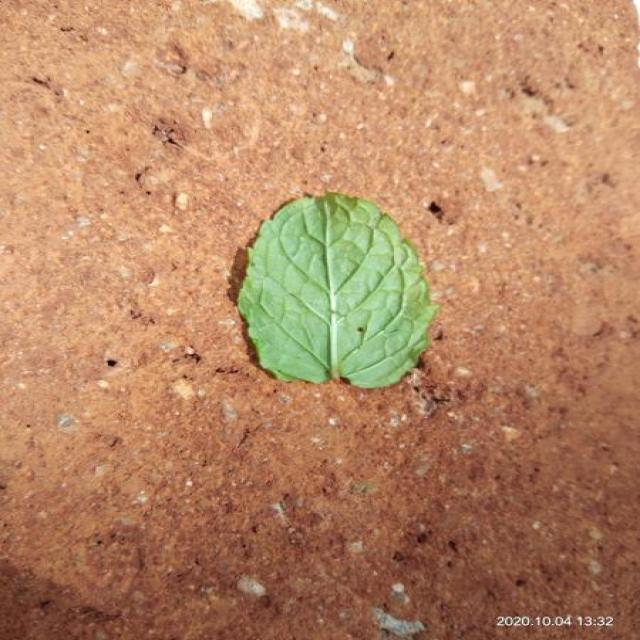mint: (238, 192, 437, 388)
